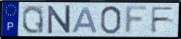A: (71, 6, 99, 34)
F: (123, 5, 151, 36), (150, 6, 176, 35)
N: (47, 4, 72, 35)
O: (99, 5, 123, 35)
Q: (21, 4, 45, 35)
